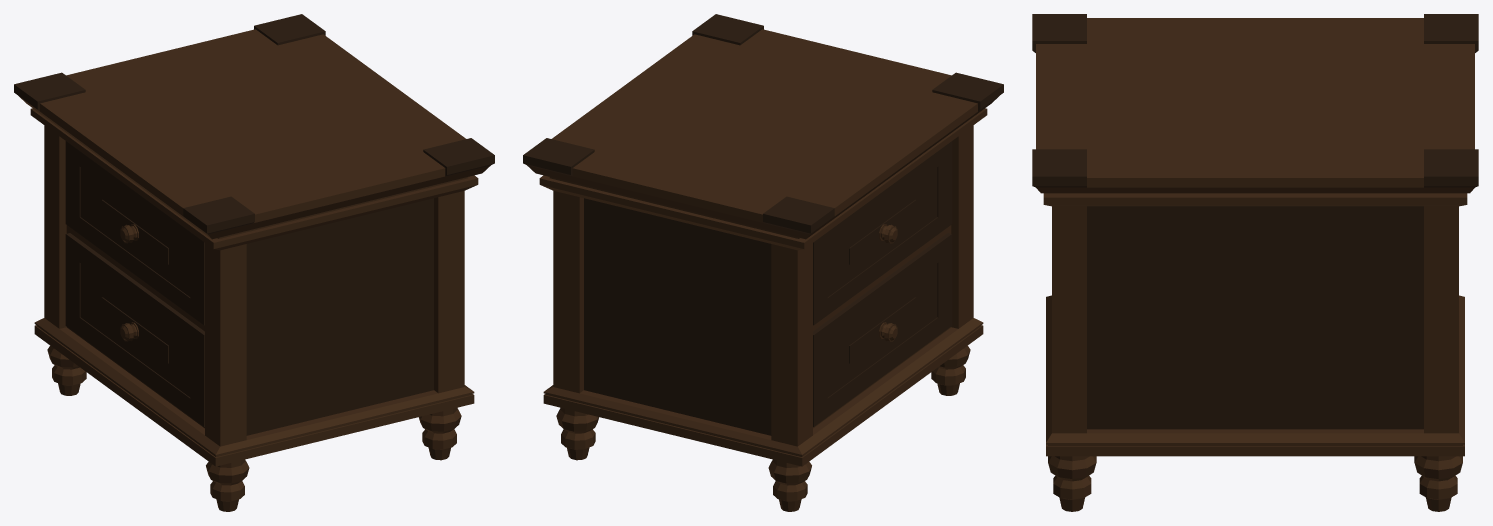
The model's file is smallStand.obj.
3 renders of one model, left to right at view 1: azimuth 30°, elevation 25°; view 2: azimuth 150°, elevation 25°; view 3: azimuth 270°, elevation 25°, orthographic. The views are drawn at different scales.
Parts seen in each view (by area): view 1: Nightstand_Cube, BottomDrawer_Cube.004, TopDrawer_Cube.003; view 2: Nightstand_Cube, BottomDrawer_Cube.004, TopDrawer_Cube.003; view 3: Nightstand_Cube.
Boxes of the visible parts, bbox=[...] form: Nightstand_Cube: bbox=[14, 14, 494, 511]; BottomDrawer_Cube.004: bbox=[65, 233, 204, 426]; TopDrawer_Cube.003: bbox=[65, 141, 204, 325]; Nightstand_Cube: bbox=[523, 14, 1003, 511]; BottomDrawer_Cube.004: bbox=[813, 233, 952, 426]; TopDrawer_Cube.003: bbox=[813, 141, 952, 325]; Nightstand_Cube: bbox=[1032, 14, 1478, 511].
Size of the model in its own units: 0.5067 by 0.5117 by 0.5877.
